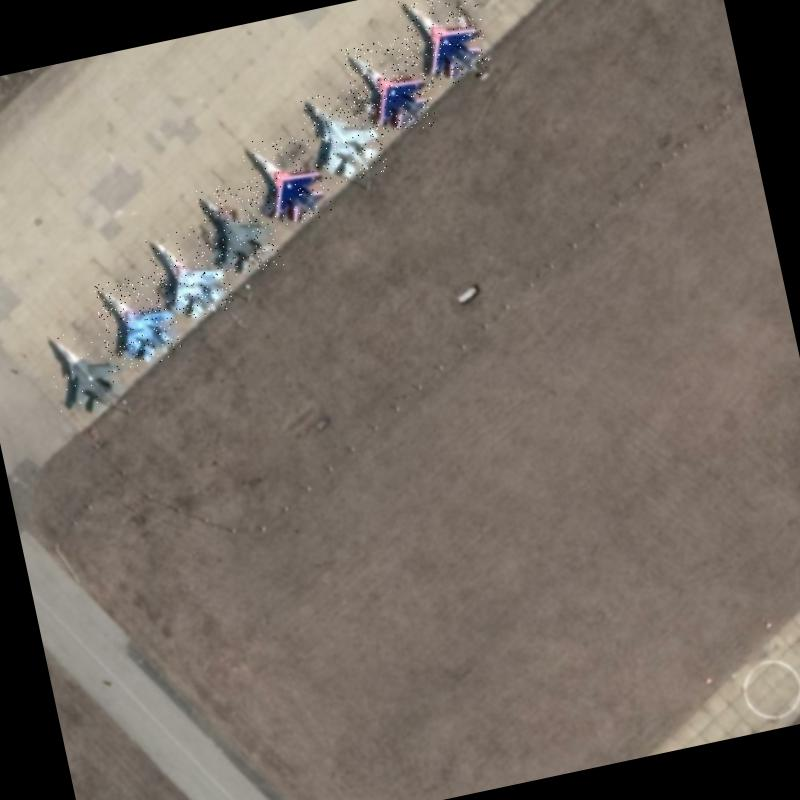A1: (340, 32, 438, 142), (240, 127, 335, 234), (144, 222, 236, 326), (194, 176, 285, 281), (92, 270, 184, 372), (396, 0, 493, 91)
A19: (298, 82, 390, 188), (42, 320, 123, 418)
